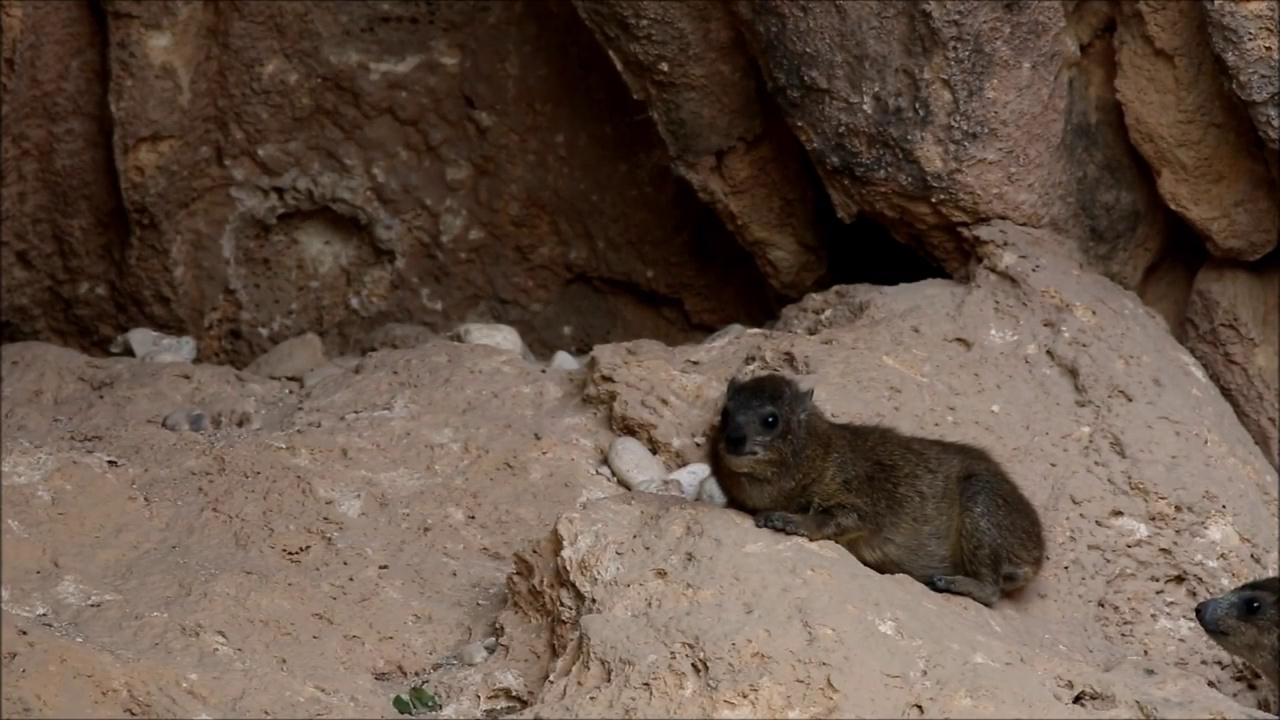Rock Hyrex: (706, 371, 1045, 606)
